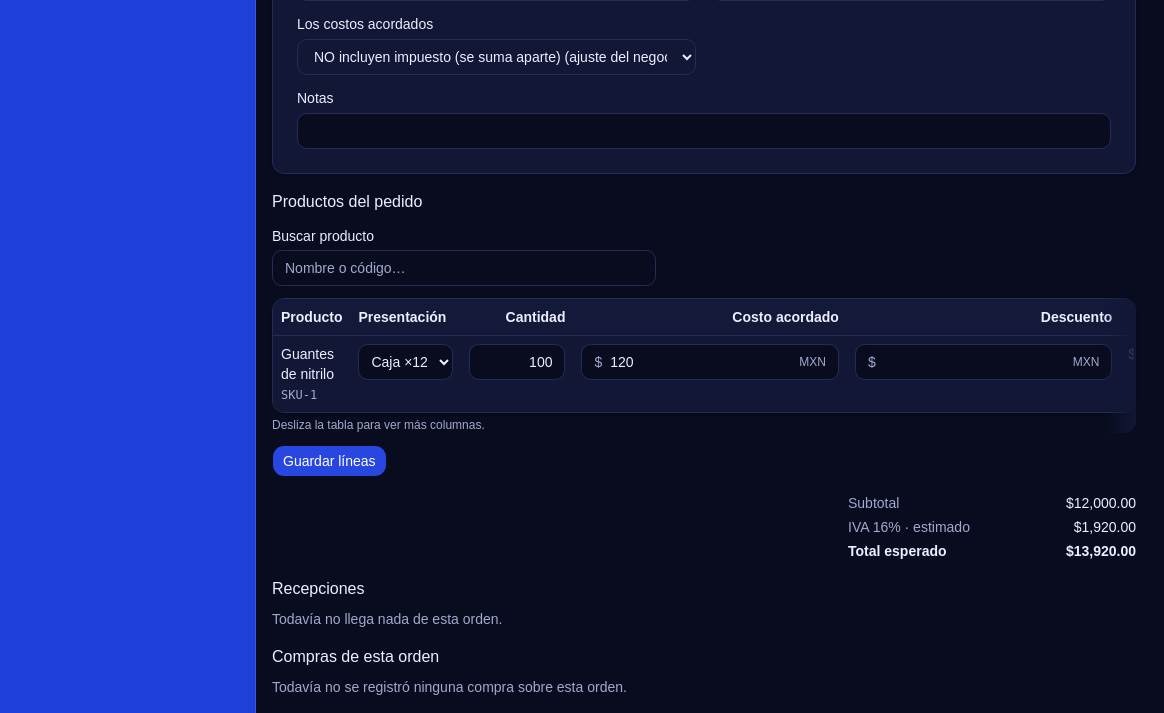
it: Órdenes de compra — la ficha (F9-PO-12/13) › si falta un campo, el aviso dice la línea › un 400 del API se lee por línea y columna, no con el mensaje general
(page scrolled)
Replace the text in the field named "Cantidad" with "7" at [518, 362], box [470, 344, 566, 380]
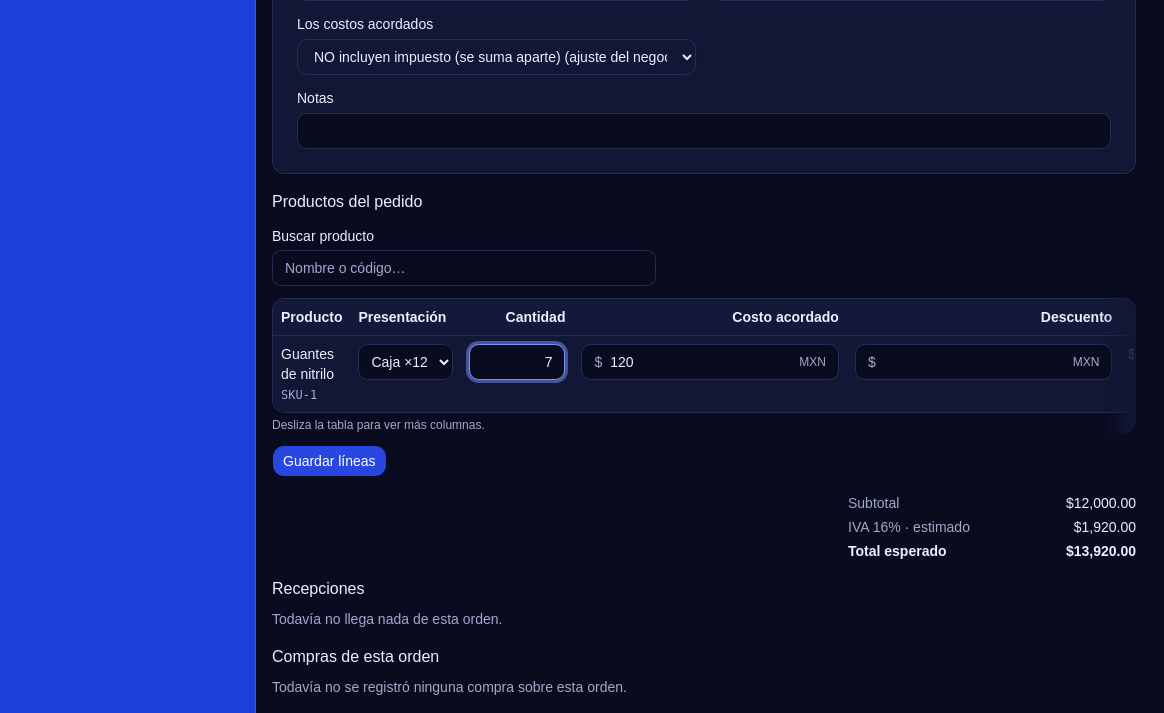
Click the button "Guardar líneas" at [329, 461], box [272, 445, 387, 477]
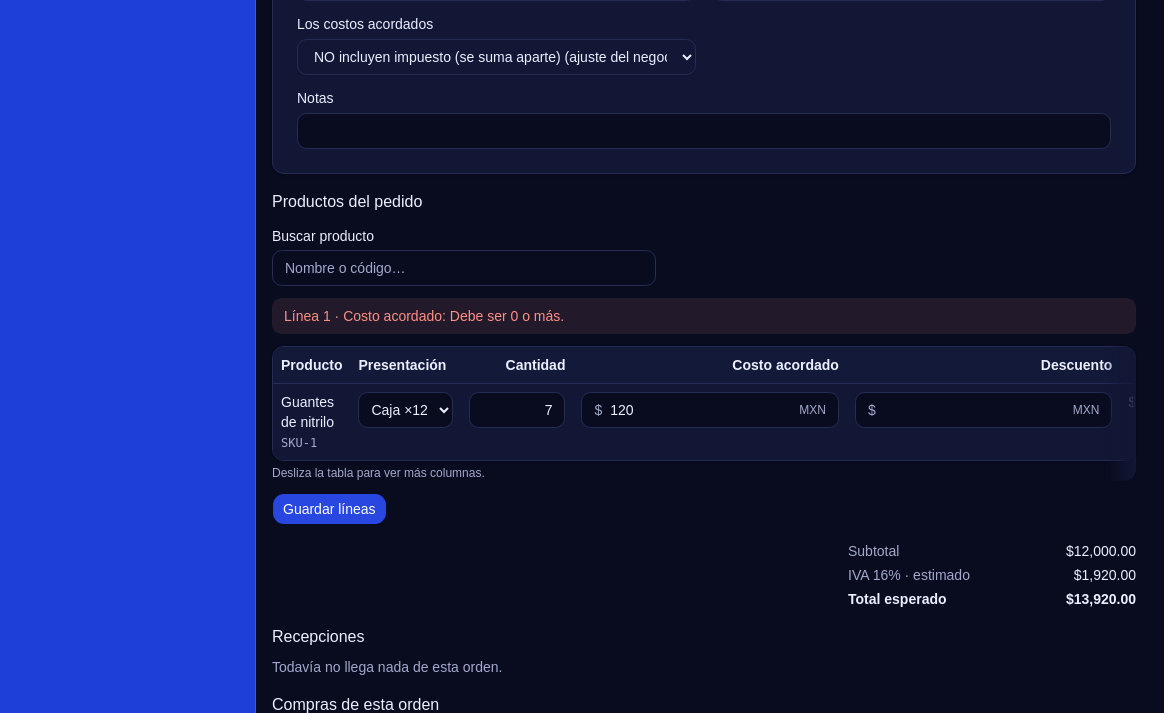
expect the text "Línea 1 · Costo acordado: Debe ser 0 o más." is shown: met, box [272, 298, 1136, 334]
